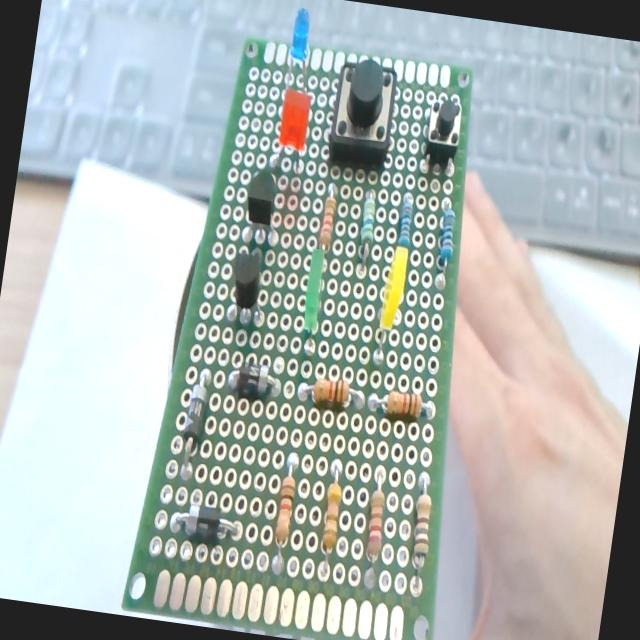diode: (177, 362, 216, 467), (169, 494, 244, 546), (223, 354, 287, 406)
led: (370, 242, 412, 358), (272, 86, 314, 168), (296, 244, 328, 344), (280, 10, 317, 86), (275, 175, 276, 178)
resistor: (392, 465, 448, 595), (306, 452, 358, 578), (264, 448, 307, 582), (353, 458, 399, 576), (293, 370, 367, 422), (366, 378, 436, 430), (428, 201, 461, 279), (354, 184, 382, 265), (315, 180, 342, 250), (396, 187, 417, 246)
switch: (324, 57, 399, 172), (417, 90, 467, 164)
transistor: (219, 250, 265, 336), (242, 168, 282, 245)
